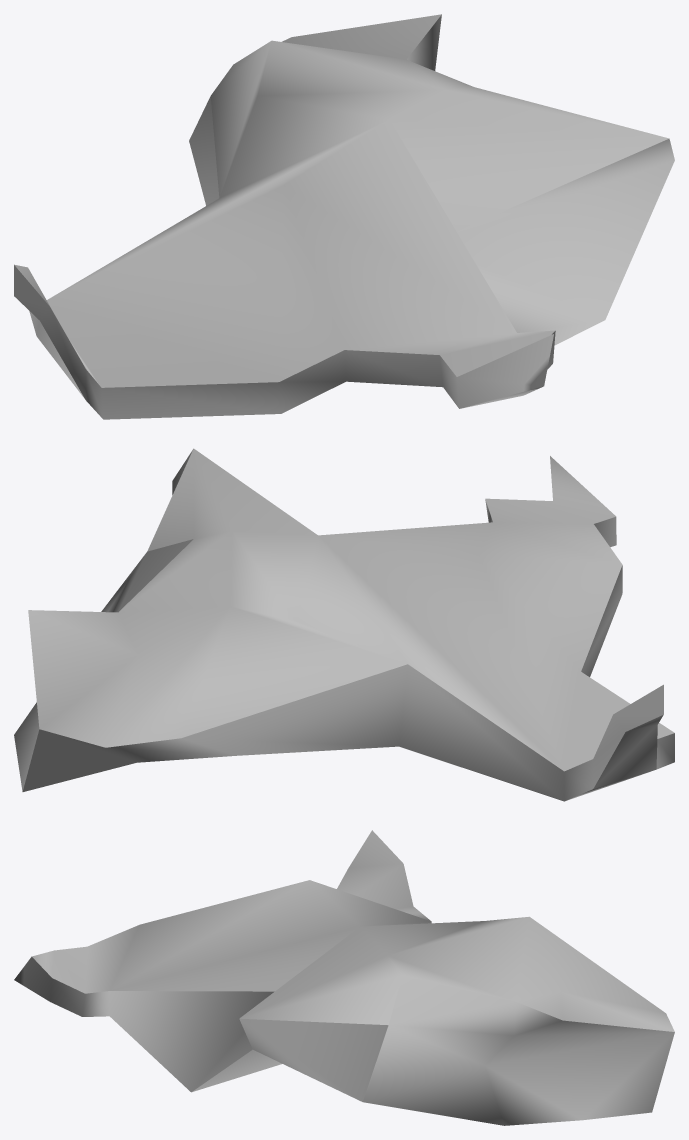
File: Shrimpled_paper.fbx
The picture shows the model from 3 angles, top to bottom: view 1: azimuth 30°, elevation 25°; view 2: azimuth 150°, elevation 25°; view 3: azimuth 270°, elevation 25°; orthographic projection. The views are drawn at different scales.
Visible parts, largest first — view 1: Shrimpled_Paperä; view 2: Shrimpled_Paperä; view 3: Shrimpled_Paperä.
Boxes of the visible parts, bbox=[...] form: Shrimpled_Paperä: bbox=[14, 14, 674, 419]; Shrimpled_Paperä: bbox=[14, 448, 674, 801]; Shrimpled_Paperä: bbox=[14, 830, 674, 1125].
Size of the model in its own units: 1.12 by 0.3544 by 1.35.
